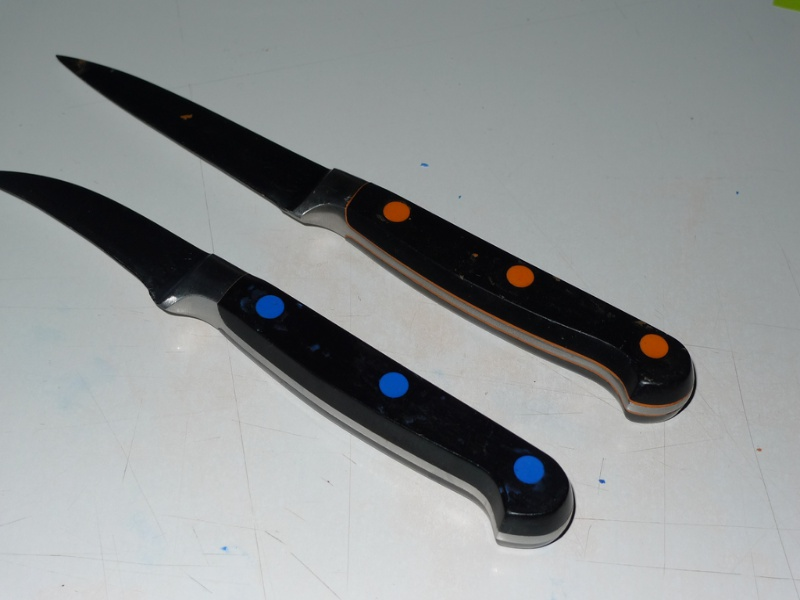axe: (4, 59, 789, 566)
